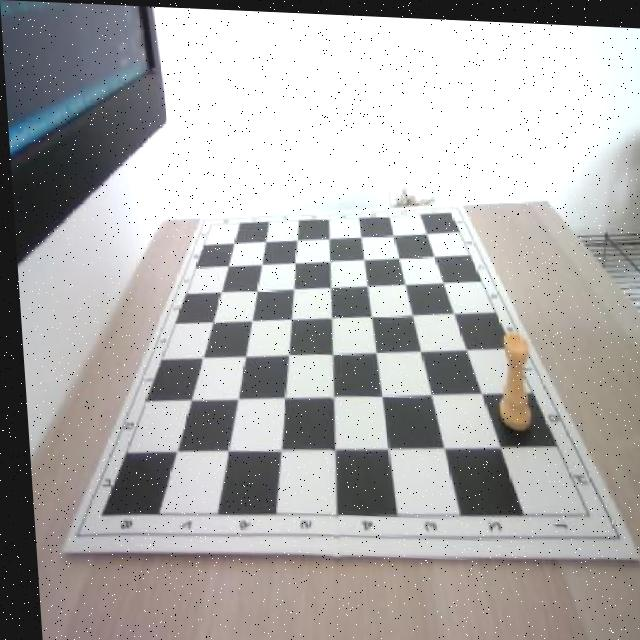white-queen: (488, 326, 529, 428)
